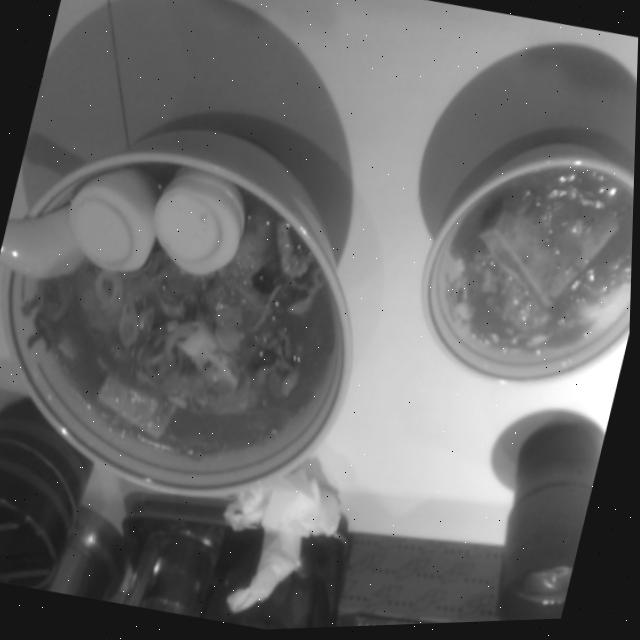面条主食: (0, 112, 394, 537)
